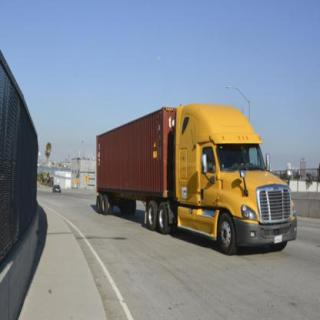Normal_vehicle: (91, 101, 304, 264)
